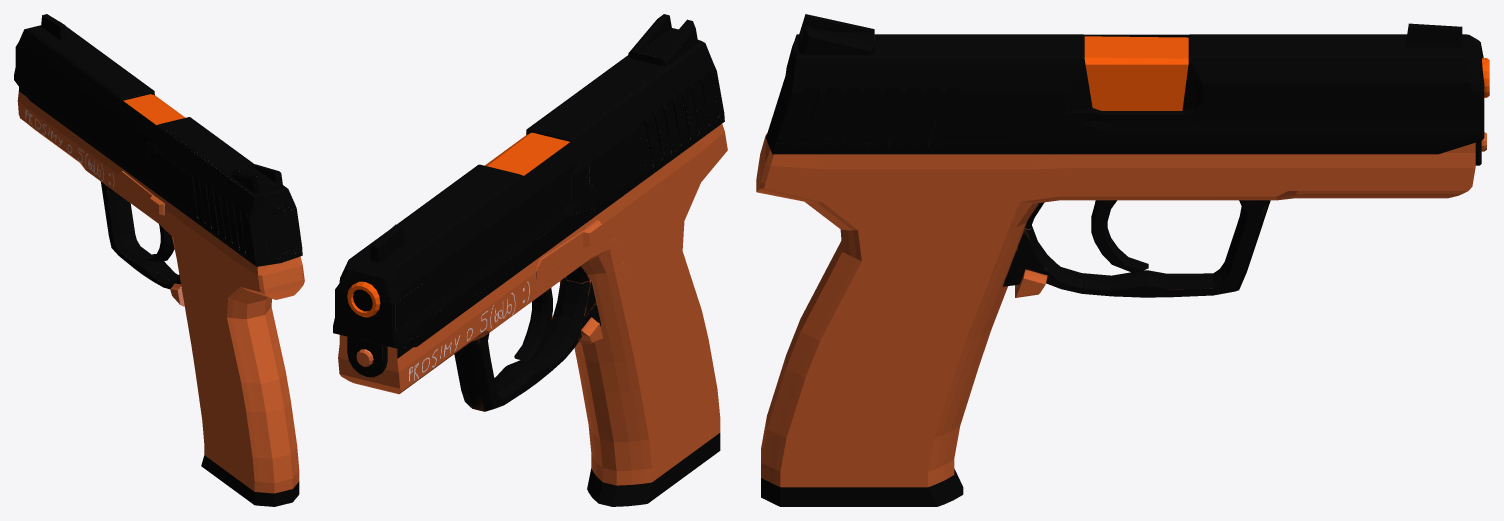
The model's file is PISTOLETORANGE.glb.
3 views of the same model, side by side, from view 1: azimuth 30°, elevation 25°; view 2: azimuth 150°, elevation 25°; view 3: azimuth 270°, elevation 25° (orthographic). The views are drawn at different scales.
Parts seen in each view (by area): view 1: Cube.001, Cube, Cube.003, Cube.002; view 2: Cube.001, Cube, Cube.002, Cube.003; view 3: Cube.001, Cube, Cube.002, Cube.003.
Boxes of the visible parts, x1,y1,x2,y2 form: Cube.001: (17, 87, 304, 493); Cube: (14, 14, 302, 266); Cube.003: (201, 455, 299, 506); Cube.002: (123, 94, 185, 125); Cube.001: (338, 124, 727, 485); Cube: (333, 14, 724, 377); Cube.002: (347, 132, 569, 317); Cube.003: (587, 433, 720, 506); Cube.001: (756, 132, 1486, 487); Cube: (766, 14, 1484, 165); Cube.002: (1084, 36, 1489, 110); Cube.003: (761, 468, 963, 506).
Size of the model in its own units: 0.8479 by 5.15 by 7.3.
Materials: 4 (4 with a texture image).
